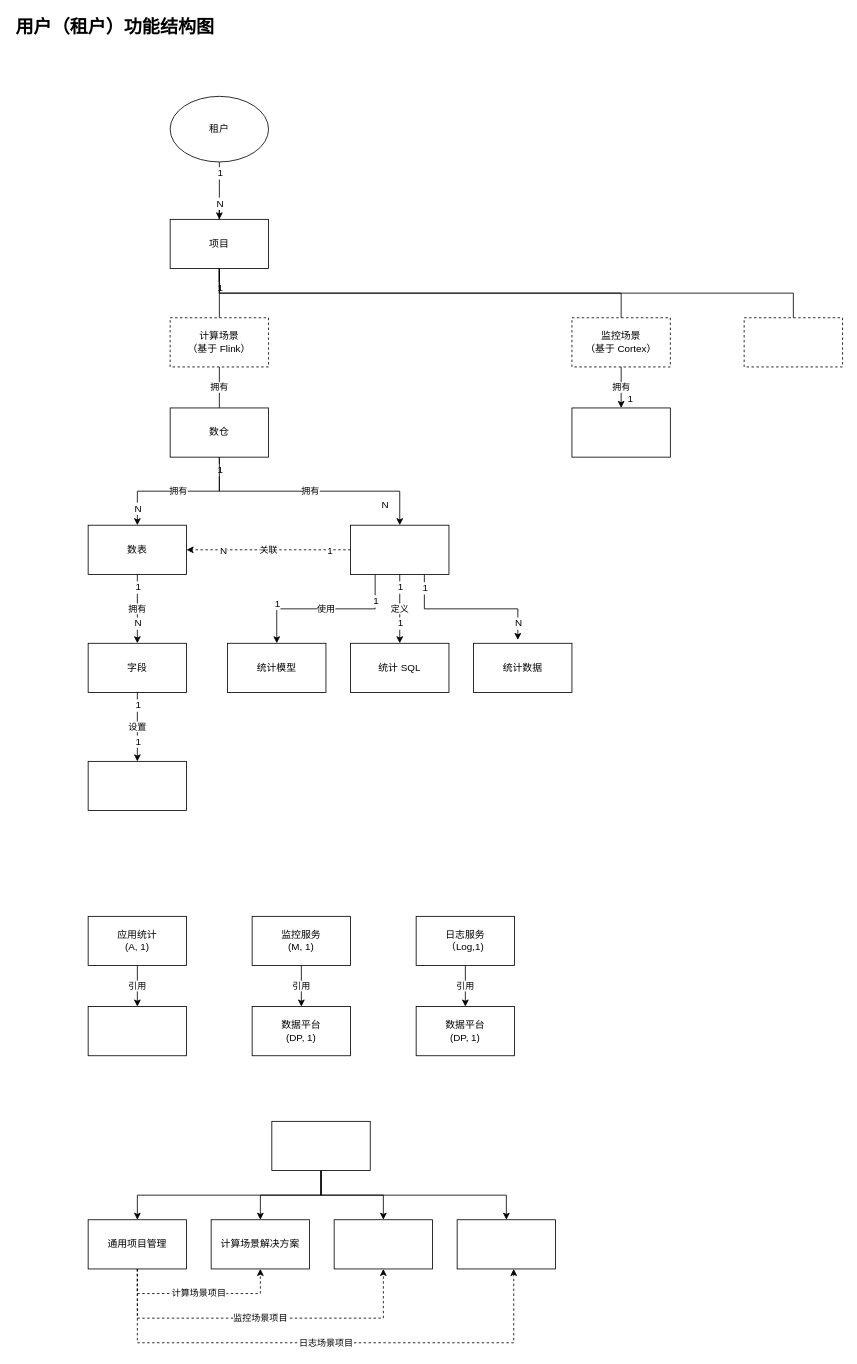
This 857x1364 diagram has some shape labels left out. The centre of each missing label's shape, as x and y in pixels:
"Cortex 租户" goes at [620,432].
"字段标签" goes at [137,786].
"数据平台" goes at [320,1146].
"数据平台 (DP, 1）" goes at [137,1031].
"日志场景 （基于 ELK）" goes at [793,342].
"日志场景解决方案" goes at [506,1244].
"监控场景解决方案" goes at [383,1244].
"统计" goes at [399,549].
